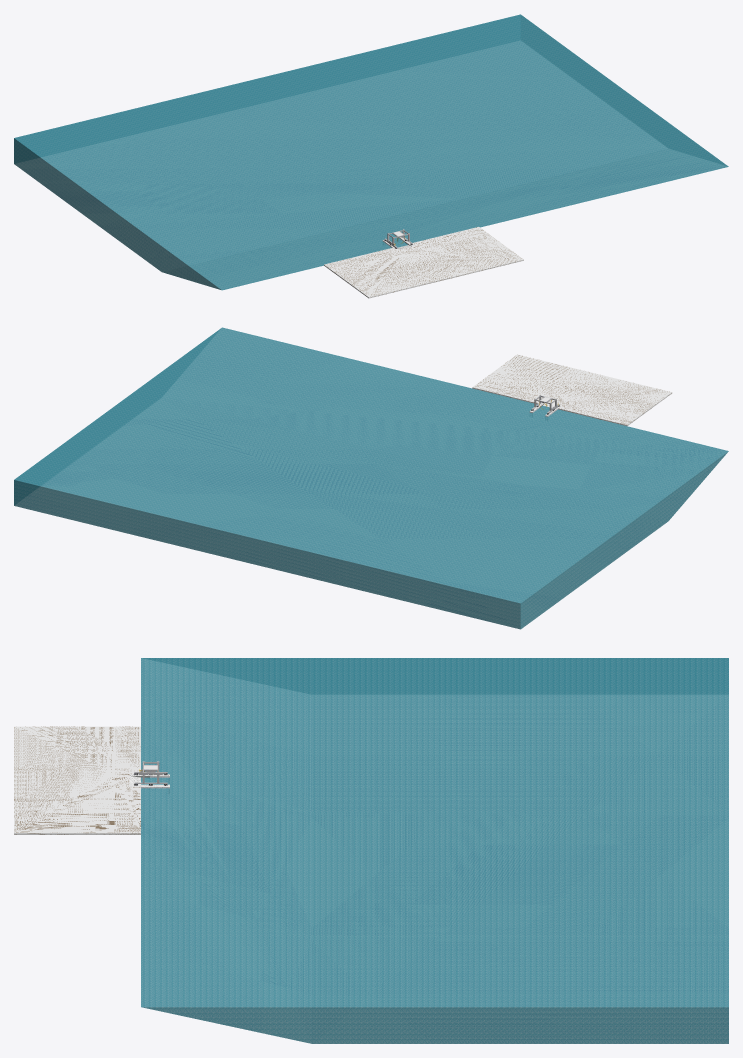
The model's file is lanch ramp.dae.
3 renders of one model, top to bottom at view 1: azimuth 30°, elevation 25°; view 2: azimuth 150°, elevation 25°; view 3: azimuth 270°, elevation 25°, orthographic. The views are drawn at different scales.
Parts seen in each view (by area): view 1: matt (×3); view 2: matt (×3); view 3: matt (×3).
Boxes of the visible parts, x1,y1,x2,y2 form: matt (×3): (14,14,728,298); matt (×3): (14,327,728,629); matt (×3): (14,658,728,1043).
Bounding box in the file's own units: 13941 × 12065 × 961.
